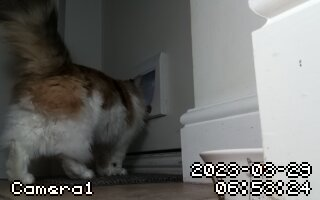clara: (11, 11, 155, 185)
